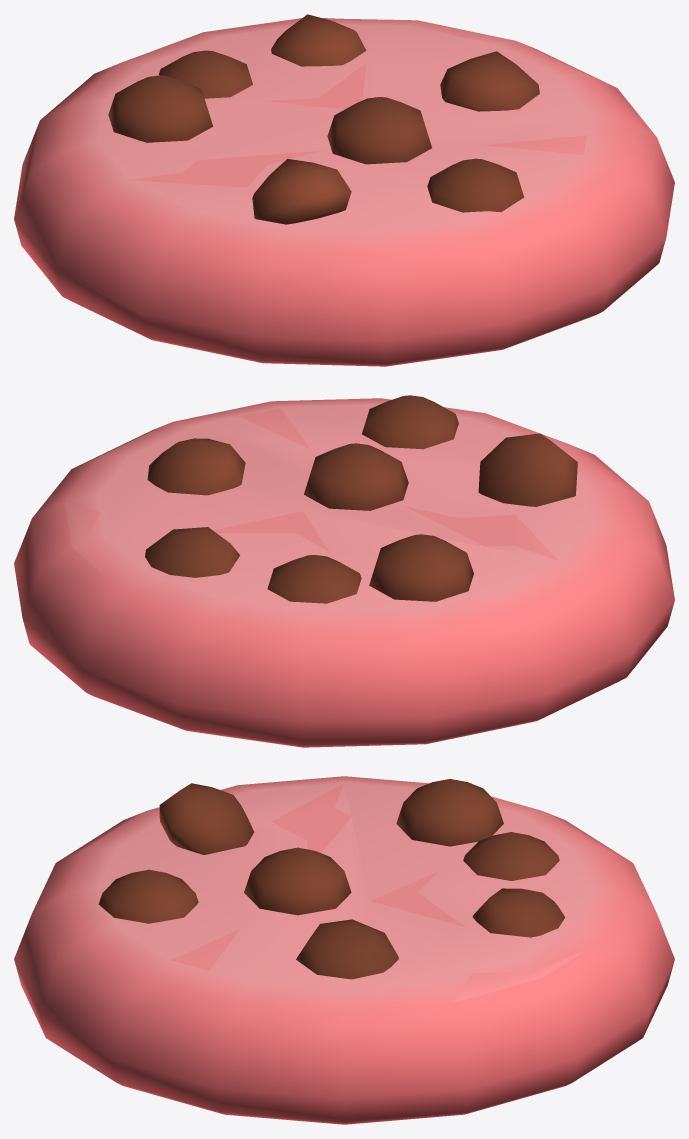
Rendered from Cookie_V1_02.fbx.
3 views of the same model, one above another, from view 1: azimuth 30°, elevation 25°; view 2: azimuth 150°, elevation 25°; view 3: azimuth 270°, elevation 25° (orthographic).
Parts seen in each view (by area): view 1: Cookie_V1_02; view 2: Cookie_V1_02; view 3: Cookie_V1_02.
Part boxes in pixels (left/top/right/bottom): Cookie_V1_02: left=14, top=14, right=674, bottom=366; Cookie_V1_02: left=14, top=395, right=674, bottom=747; Cookie_V1_02: left=14, top=776, right=674, bottom=1124.
Bounding box in the file's own units: 31.75 × 8.24 × 31.75.
